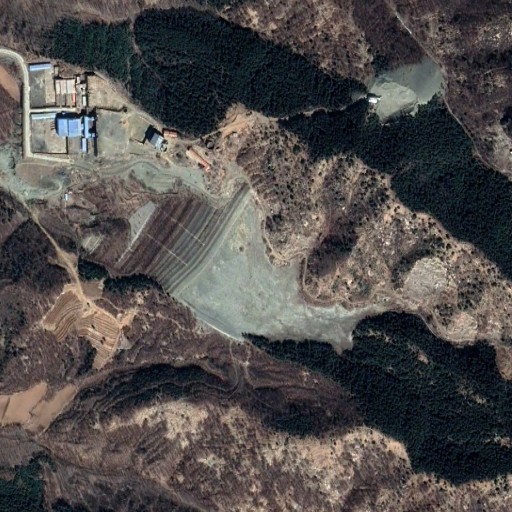tp: (80, 182, 371, 352)
